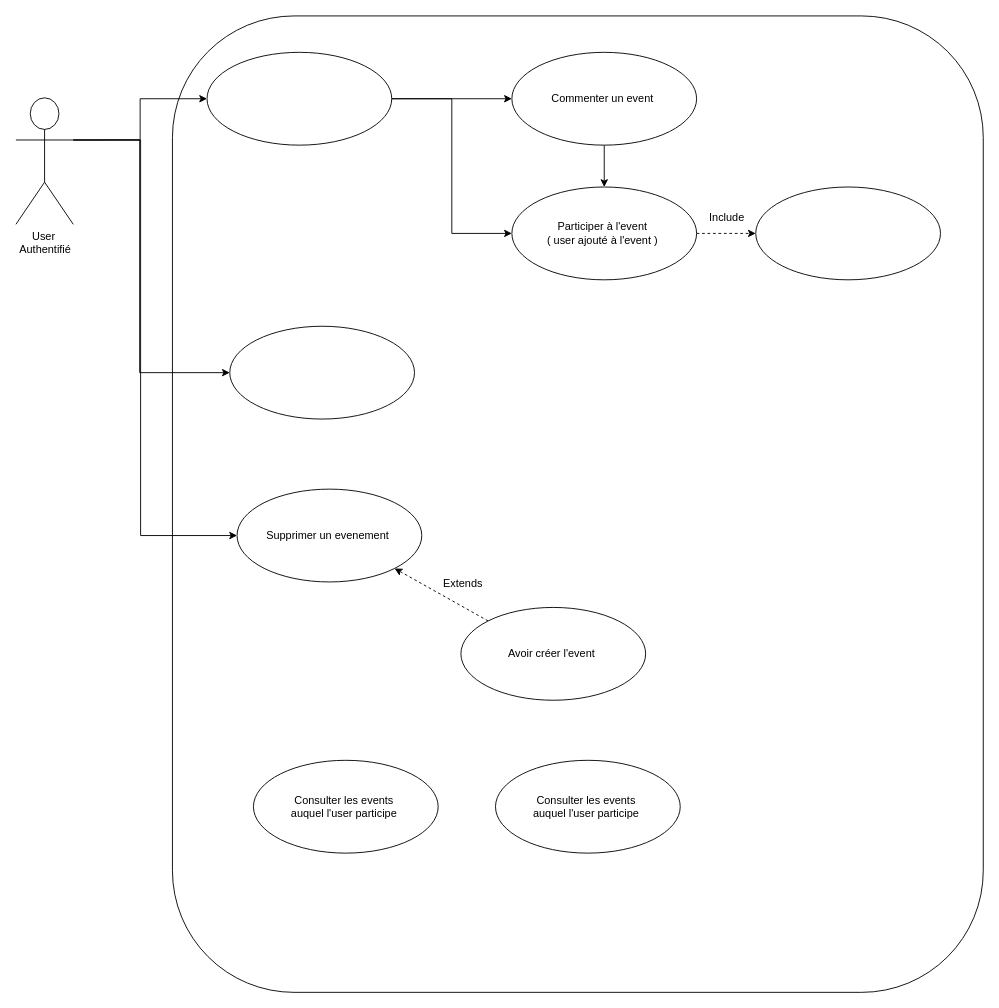
The diagram is 999 pixels wide and 1008 high, and some of its shapes have lost their labels. Each missing label, with the box of its shape:
Ajouter un evenement: (229, 325, 415, 419)
Chat de l'event disponible: (755, 186, 940, 280)
Consulter les evenements: (206, 51, 392, 145)
